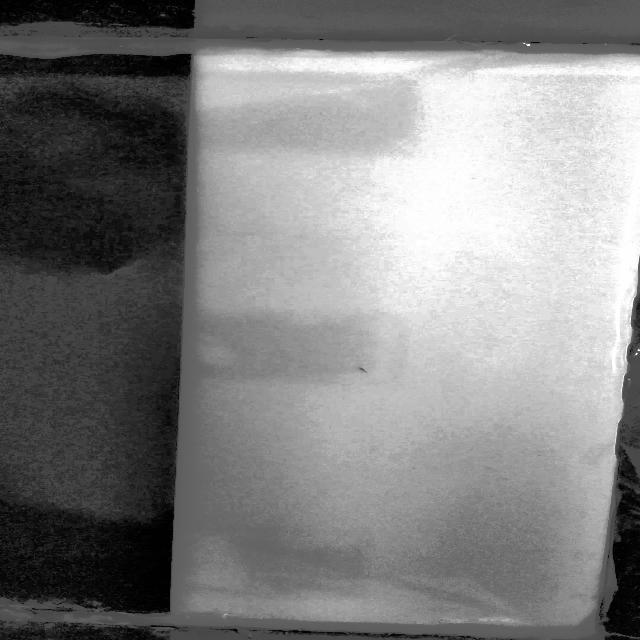shrimp: (351, 366, 377, 374)
